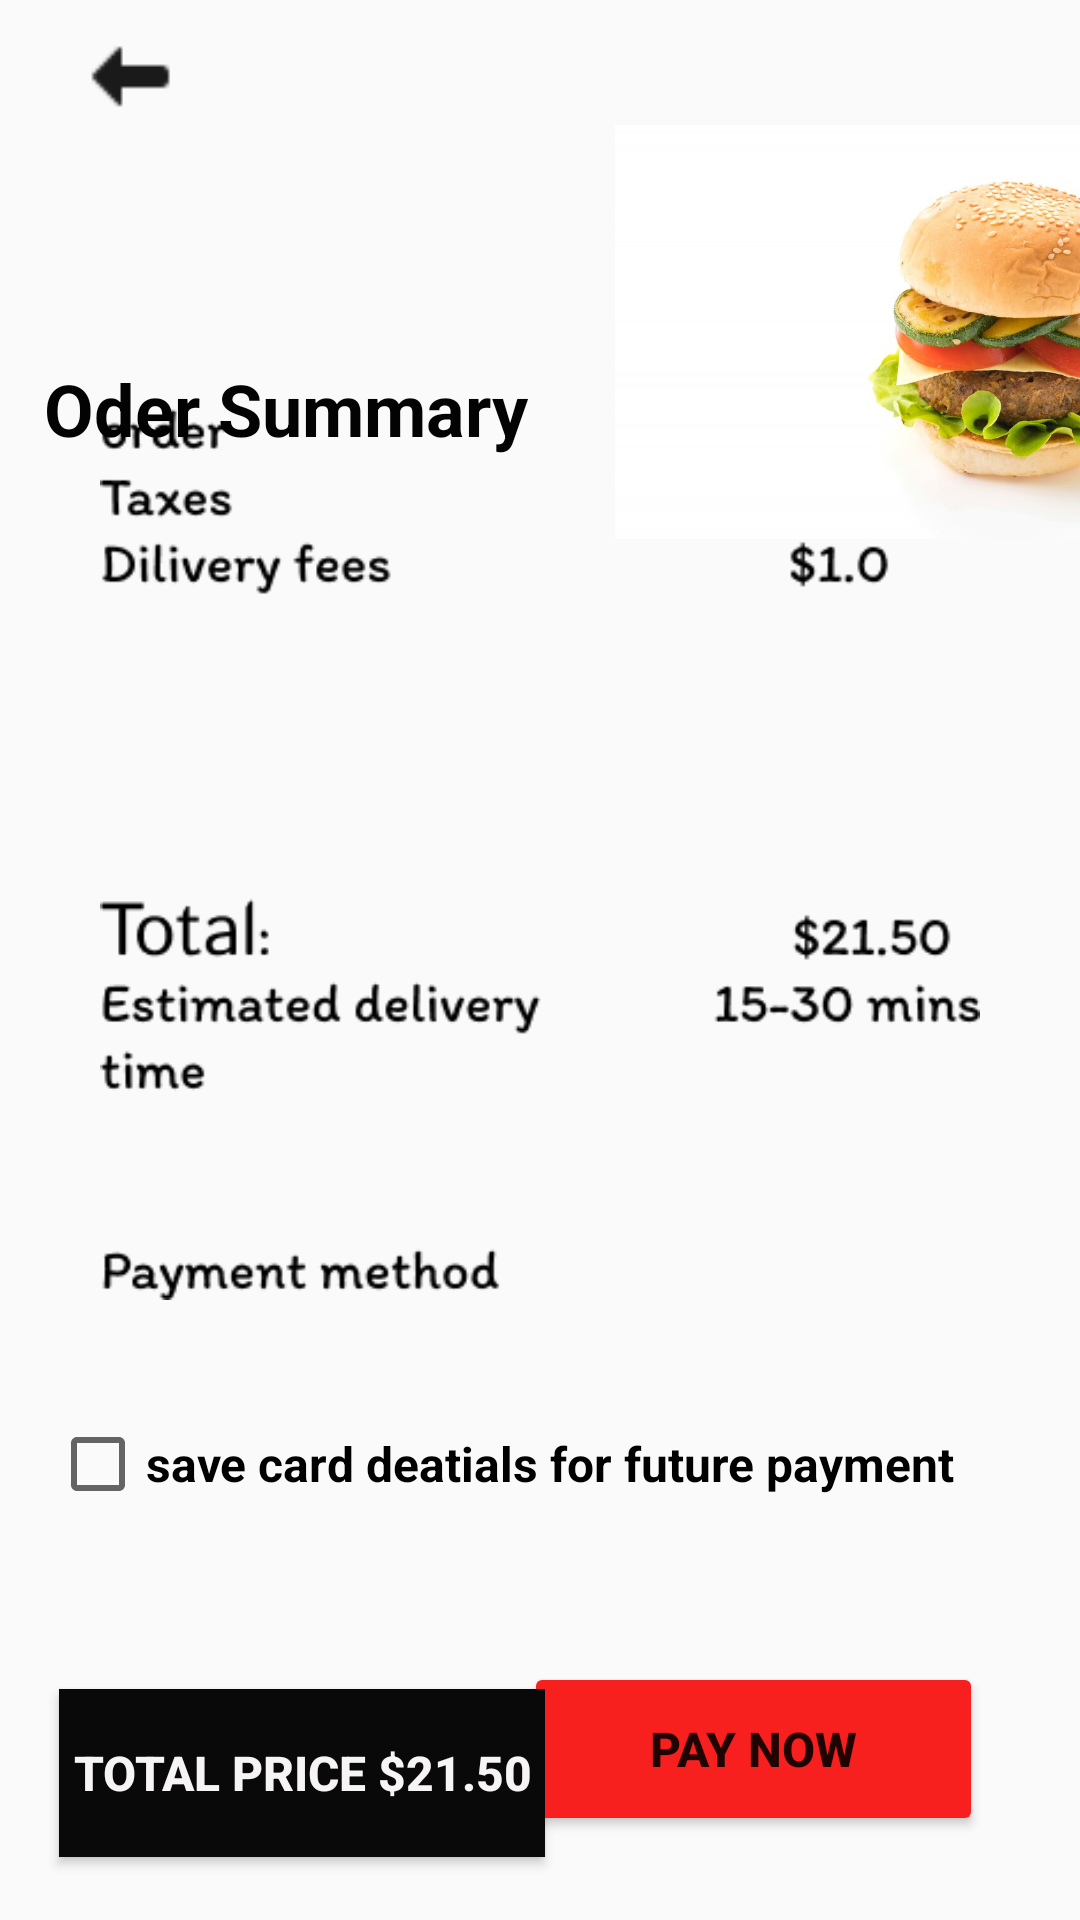

Icons on this 1080*1920 Android screen, each with the point to tap as [x,y]:
arrow pointing left: [130,76]
